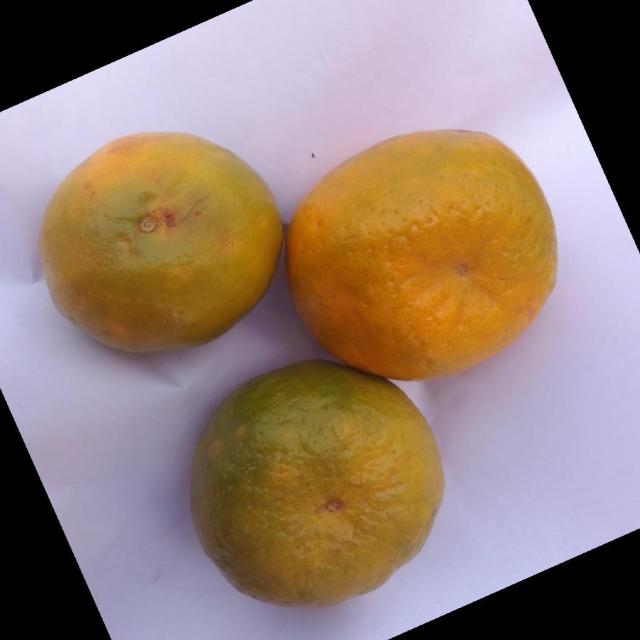fresh orange: (284, 127, 558, 381), (188, 358, 445, 607), (37, 129, 284, 354)
